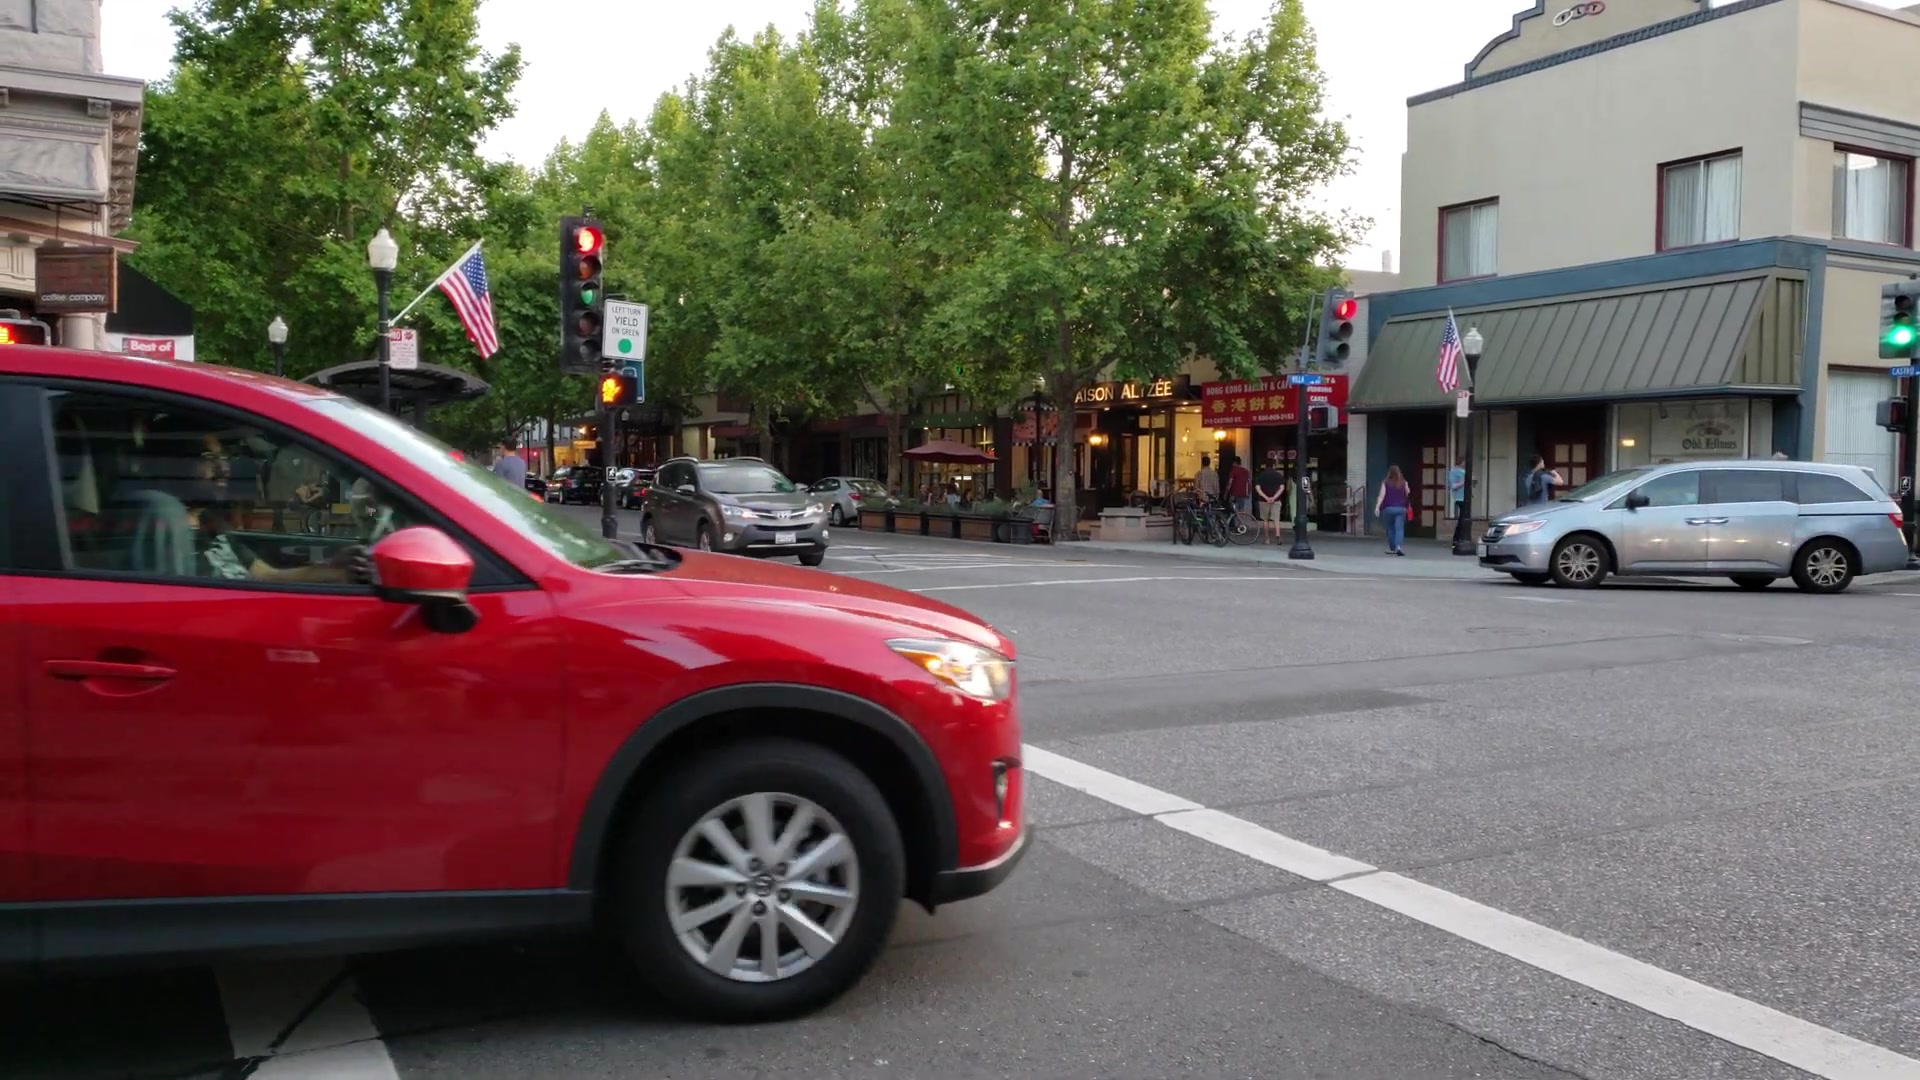vehicle: (1, 339, 1036, 1033), (1477, 448, 1907, 600), (644, 454, 833, 572)
